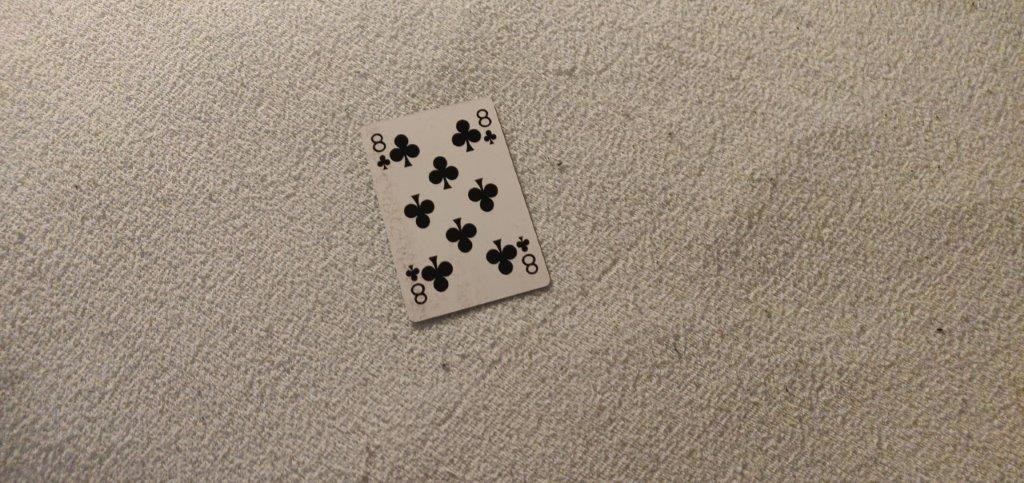8C: (474, 105, 500, 148), (368, 131, 394, 172)
